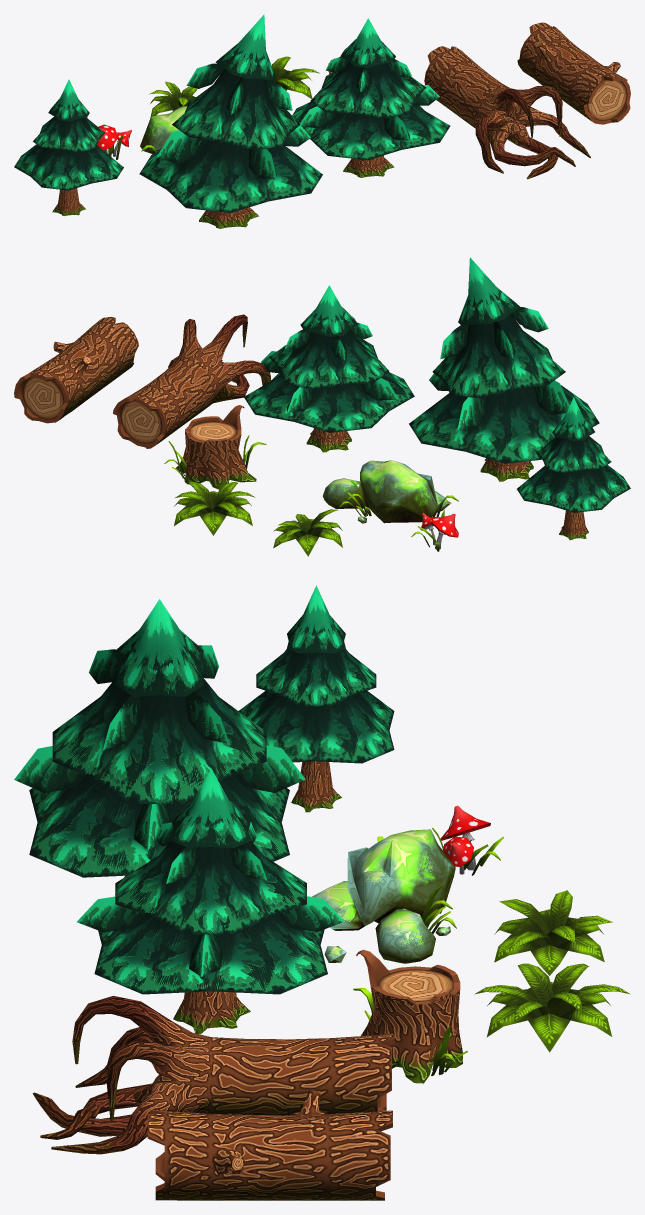
Rendered from summer_forest_pack.fbx.
The picture shows the model from 3 angles, top to bottom: view 1: azimuth 30°, elevation 25°; view 2: azimuth 150°, elevation 25°; view 3: azimuth 270°, elevation 25°; orthographic projection. The views are drawn at different scales.
Visible parts, largest first — view 1: Object009; view 2: Object009; view 3: Object009.
Boxes of the visible parts, left/top/right/bottom form: Object009: left=14, top=14, right=630, bottom=228; Object009: left=14, top=257, right=630, bottom=556; Object009: left=14, top=585, right=630, bottom=1200.
Bounding box in the file's own units: 298 × 98.87 × 171.
1 material, 1 textured.
